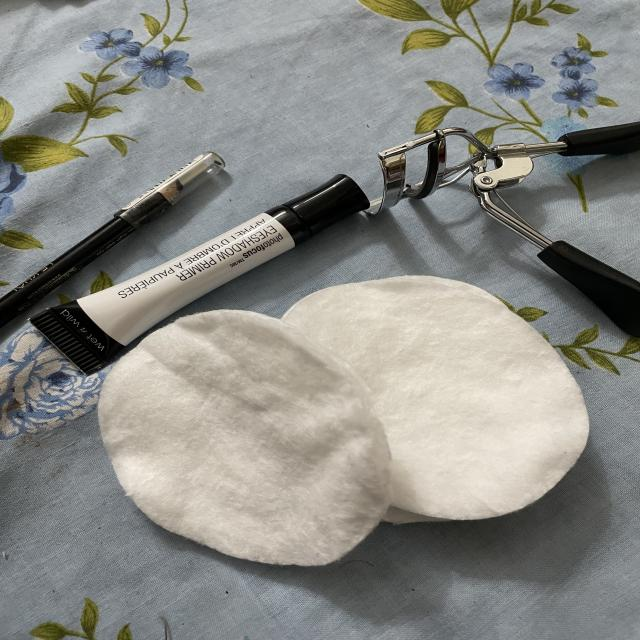eye liner: (68, 131, 231, 212)
eyelash curler: (362, 113, 640, 331)
nail polish remover: (82, 273, 600, 579)
primer: (221, 161, 373, 305)
